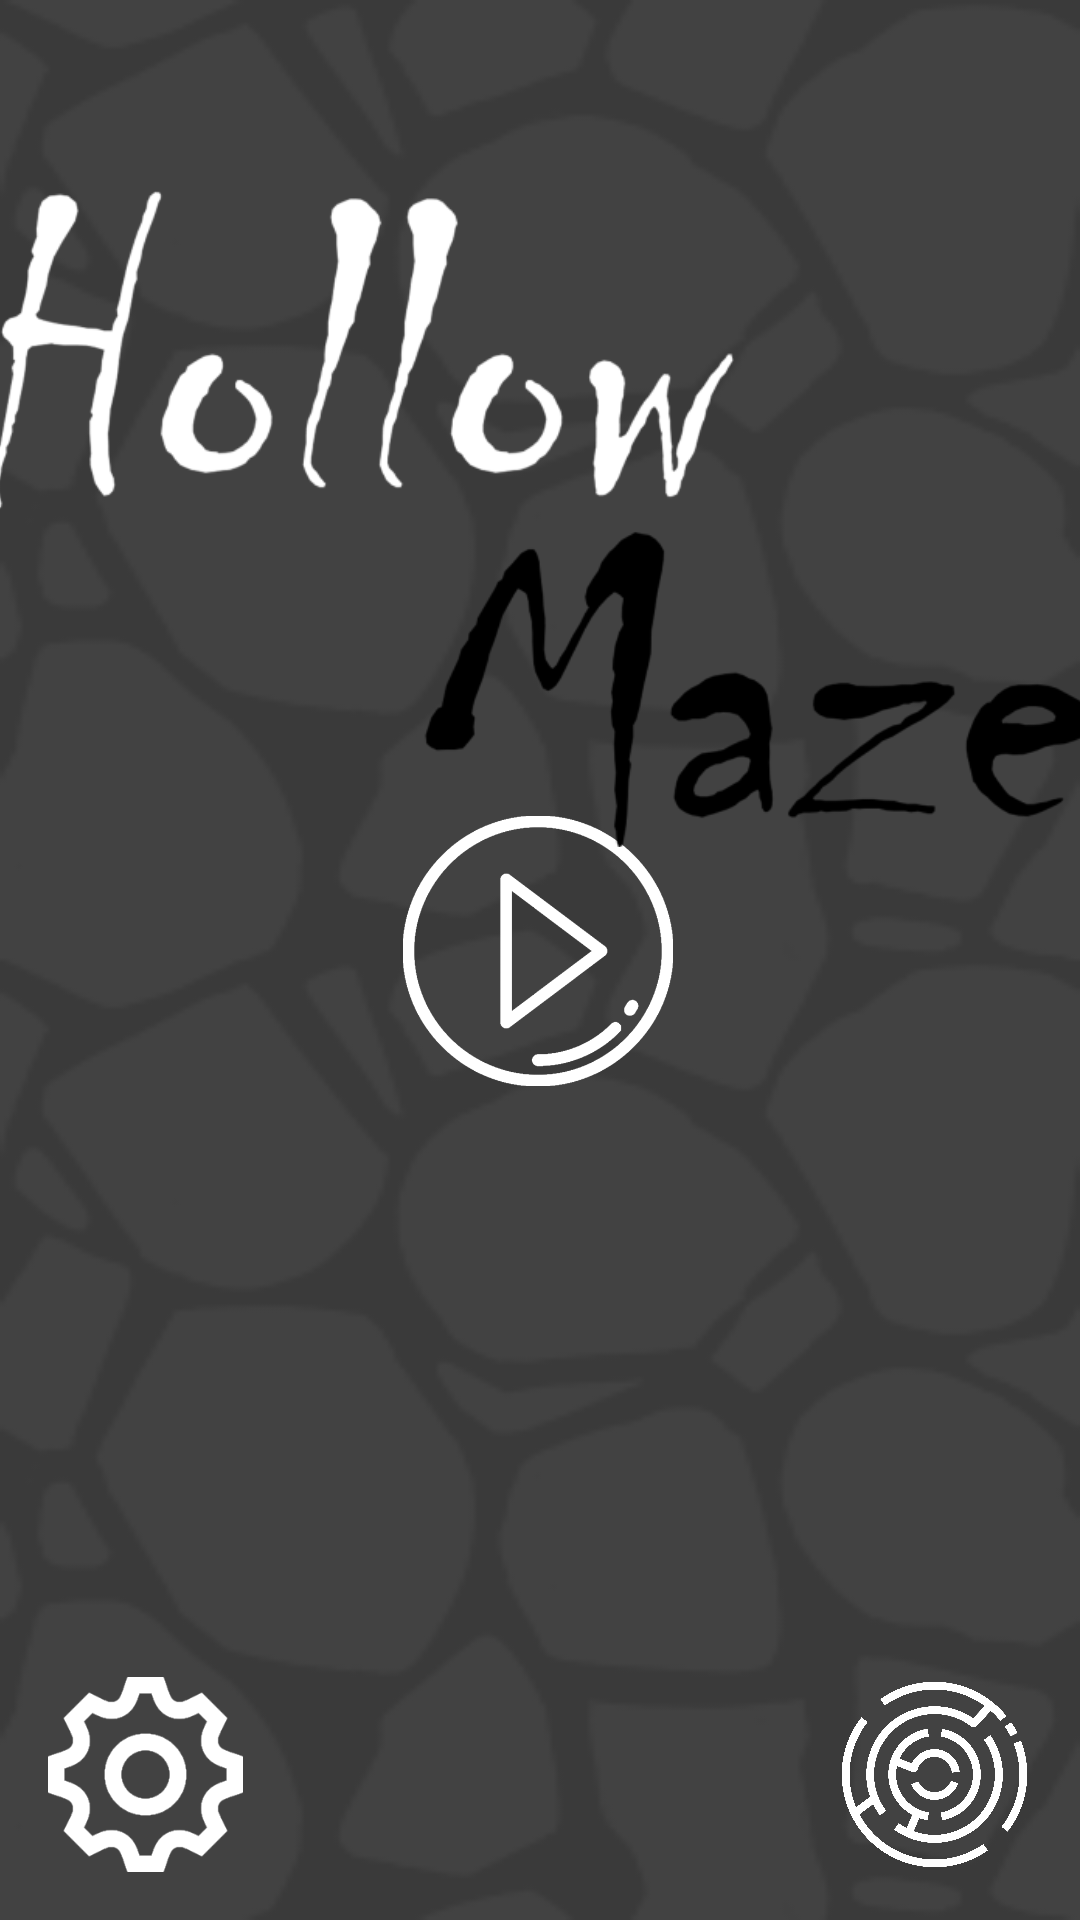

Locate icon controls on the screen. Image size 1080 × 1920, boxes as [x1, y1, x2, y2].
levelselect: [842, 1682, 1027, 1867]
playbutton: [403, 816, 673, 1086]
settings: [48, 1677, 243, 1872]
